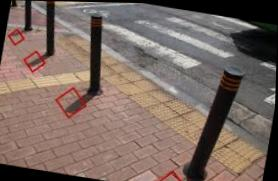Animal: (190, 62, 249, 174), (84, 5, 109, 96), (36, 1, 68, 57), (15, 0, 38, 25)
